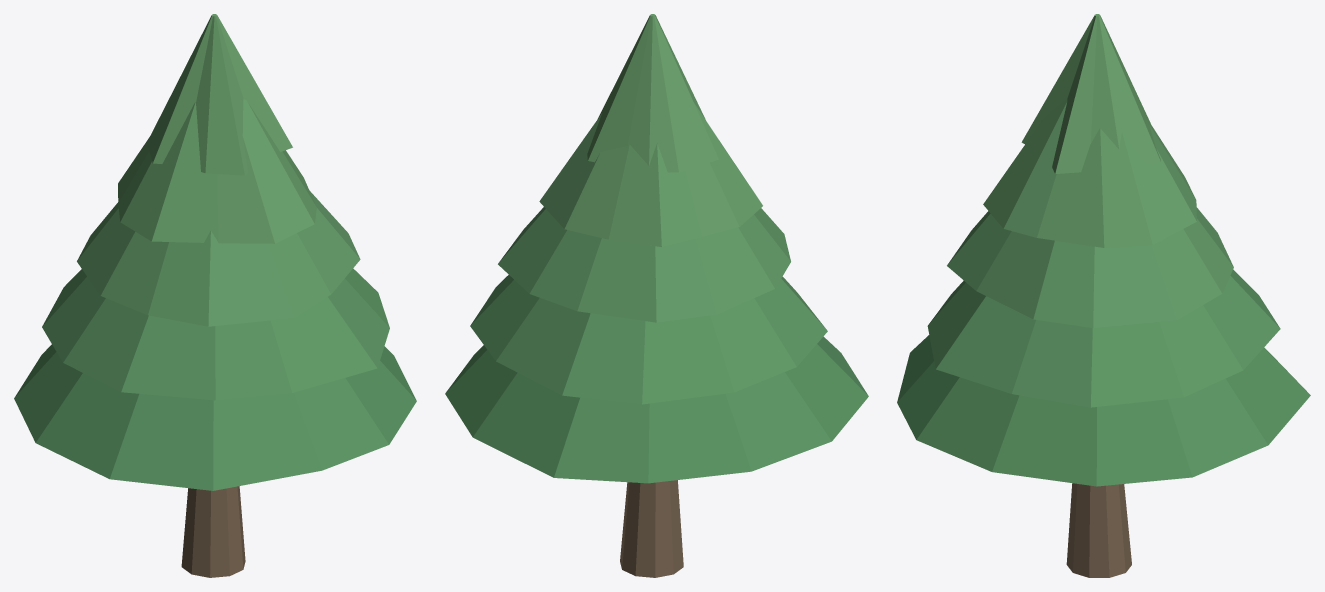
Rendered from tree.glb.
3 views of the same model, side by side, from view 1: azimuth 30°, elevation 25°; view 2: azimuth 150°, elevation 25°; view 3: azimuth 270°, elevation 25° (orthographic).
Visible parts, largest first — view 1: tree; view 2: tree; view 3: tree.
Part boxes in pixels (bbox=[...]): tree: bbox=[14, 14, 416, 577]; tree: bbox=[445, 14, 868, 577]; tree: bbox=[897, 14, 1310, 577].
Bounding box in the file's own units: 4.3 × 6.3 × 4.3.
